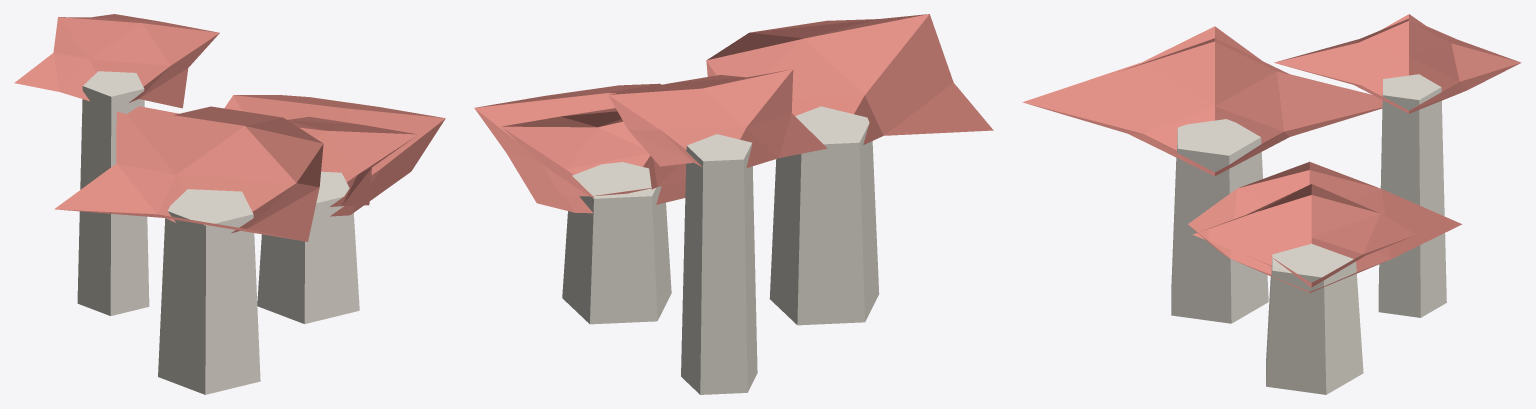
File: mushroom_v42.glb
3 views of the same model, side by side, from view 1: azimuth 30°, elevation 25°; view 2: azimuth 150°, elevation 25°; view 3: azimuth 270°, elevation 25° (orthographic). The views are drawn at different scales.
Visible parts, largest first — view 1: lod0; view 2: lod0; view 3: lod0.
Boxes of the visible parts, <box> form: lod0: <box>14,14,445,394</box>; lod0: <box>474,14,993,394</box>; lod0: <box>1022,14,1521,394</box>.
Size of what is drawn, in the model's own units: 0.7205 by 0.4483 by 0.7137.
